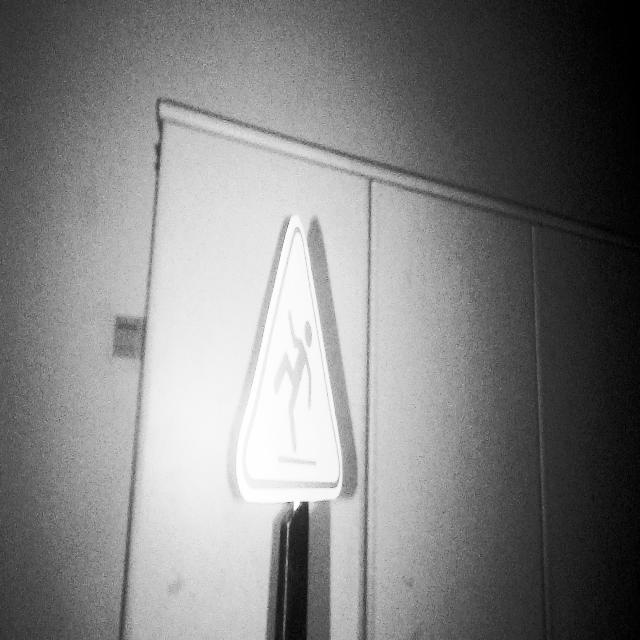Sign: (235, 213, 345, 507)
